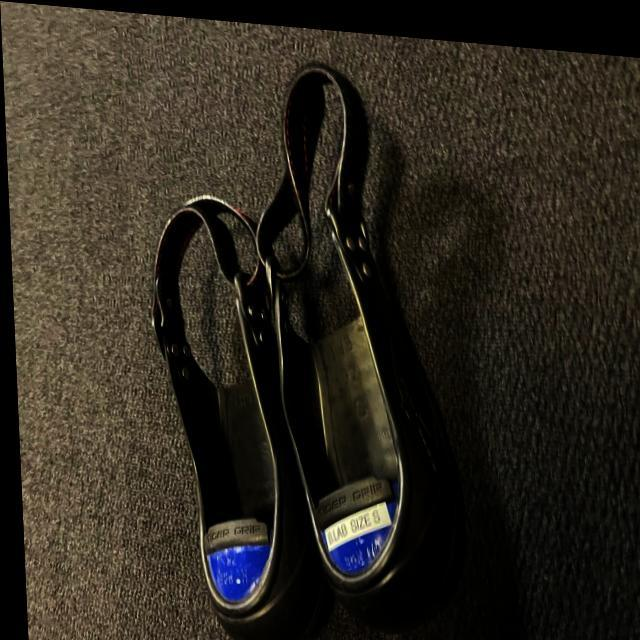shoes: (255, 200, 429, 620), (146, 196, 302, 624)
